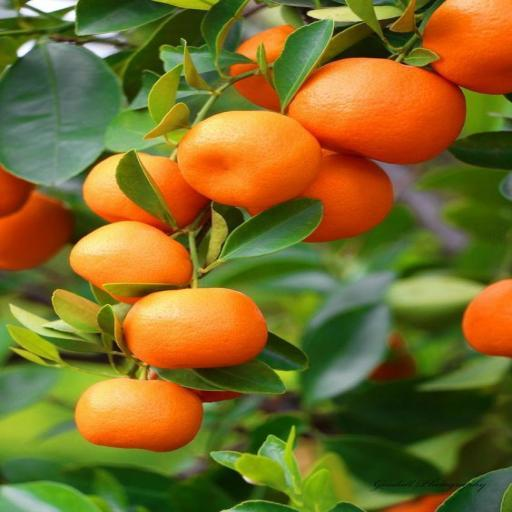orange: (289, 58, 465, 164), (178, 111, 321, 208), (124, 289, 266, 368), (76, 378, 202, 452), (70, 221, 192, 288)
